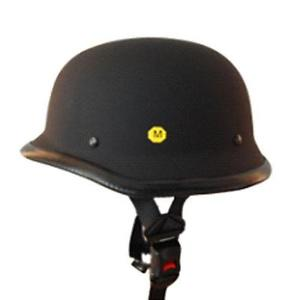with_helmet: (18, 36, 274, 218)
